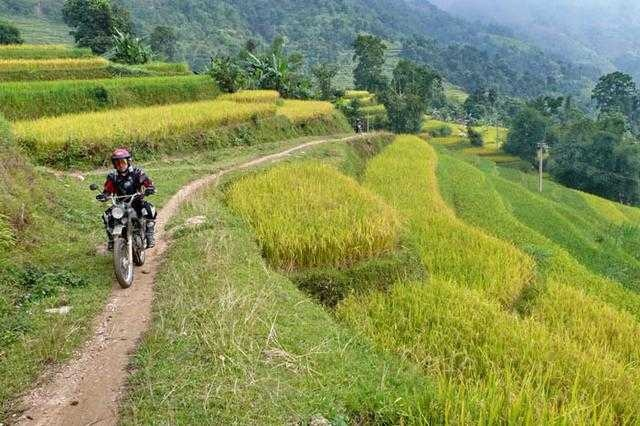motorcycle: (89, 188, 158, 289)
